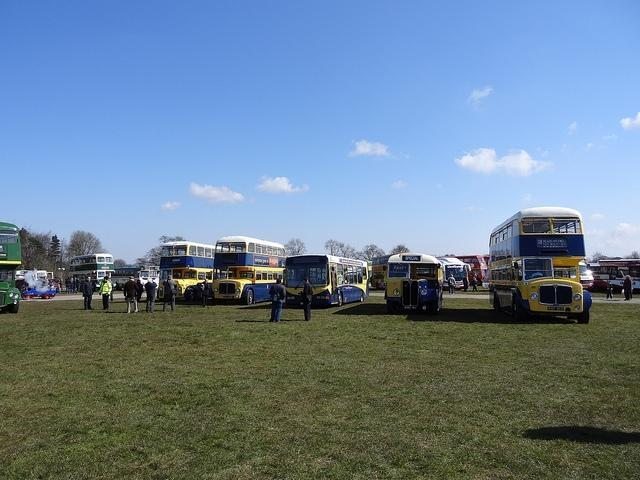bus: (487, 206, 591, 324), (210, 236, 288, 306), (286, 257, 372, 309), (384, 252, 444, 313), (156, 242, 215, 302), (1, 222, 23, 311), (66, 253, 115, 292), (599, 258, 640, 288), (112, 266, 160, 290), (372, 252, 401, 290), (438, 257, 472, 287), (454, 256, 486, 285)
